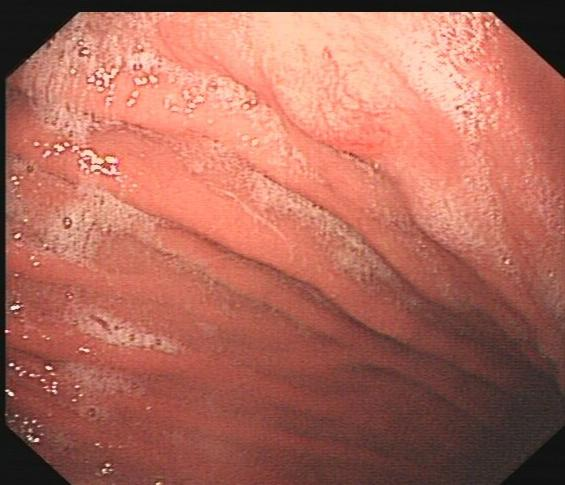Polyp: (258, 35, 388, 156)
